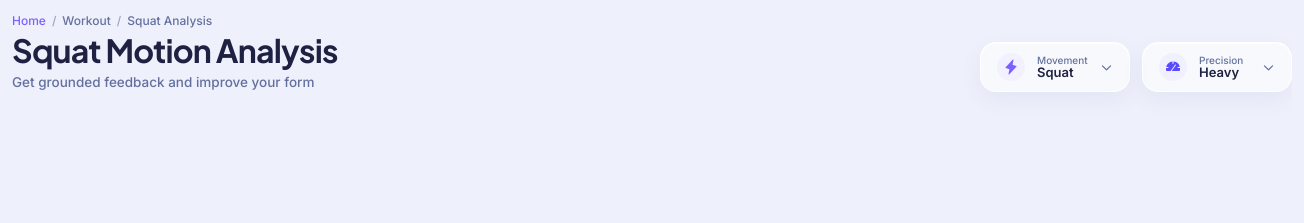
Test: StudioTitleBar › exposes the movement picker as a labelled menu, and reports the choice
Click the button with aria-label "Movement: Squat".
click(1055, 67)  # box [980,42,1130,92]
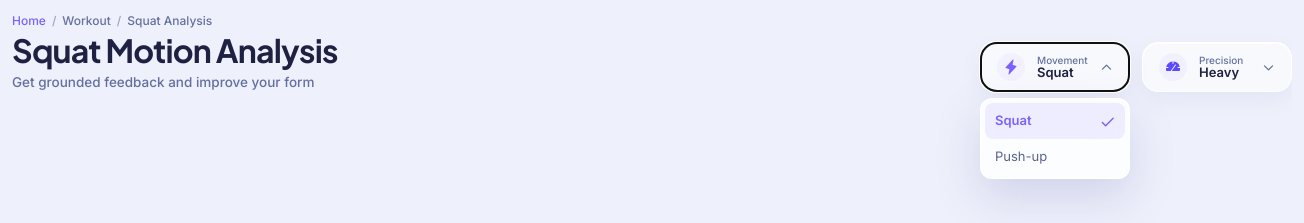
Now the button with aria-label "Movement: Squat" is expanded, box [980,42,1130,92]
Click the menu item "Push-up".
click(1055, 157)  # box [985,139,1125,174]
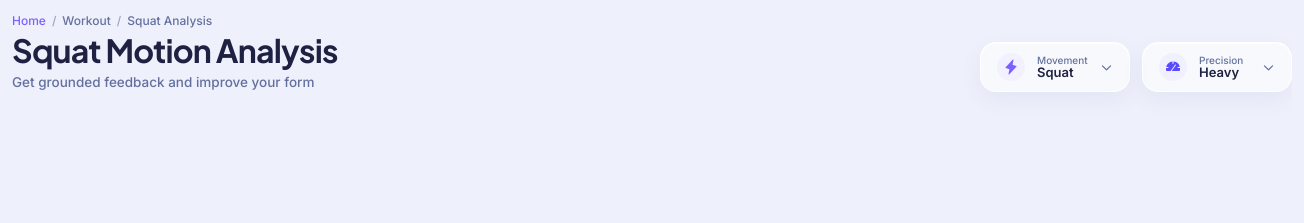
Now the menu is gone
